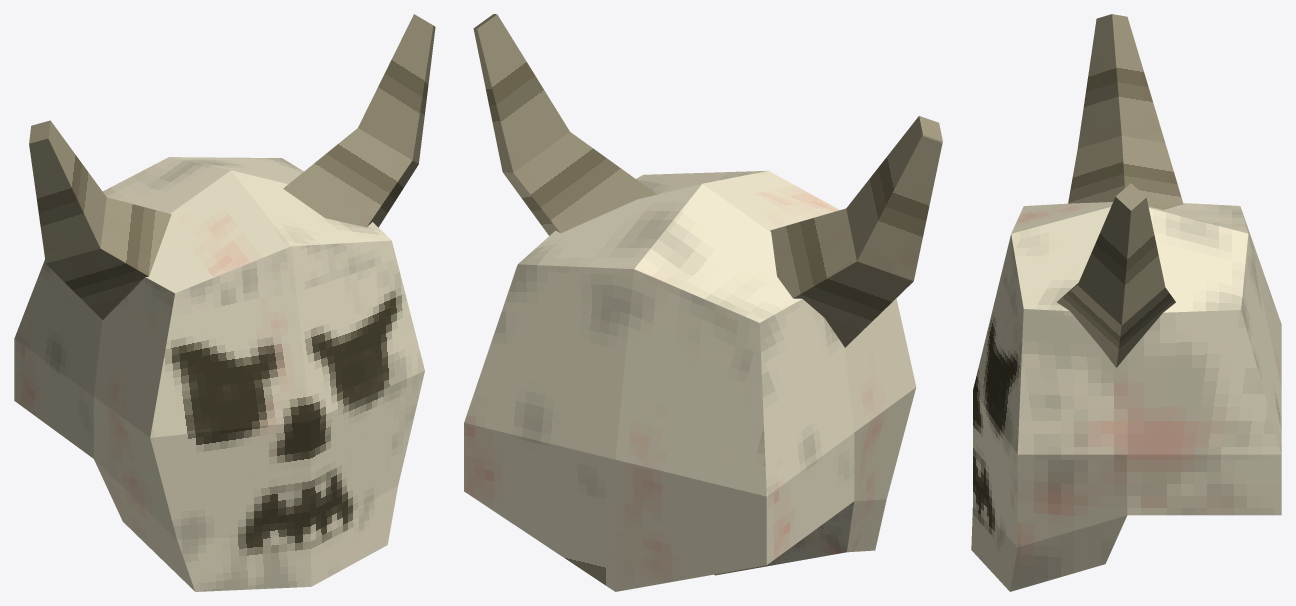
File: enemy_skull.glb
The picture shows the model from 3 angles, left to right: view 1: azimuth 30°, elevation 25°; view 2: azimuth 150°, elevation 25°; view 3: azimuth 270°, elevation 25°; orthographic projection. The views are drawn at different scales.
Parts seen in each view (by area): view 1: Cube; view 2: Cube; view 3: Cube.
Boxes of the visible parts, <box> form: Cube: <box>14,14,435,591</box>; Cube: <box>464,14,942,591</box>; Cube: <box>971,14,1281,591</box>.
Bounding box in the file's own units: 1.29 × 1.4 × 0.8546.
Materials: 1 (1 with a texture image).
